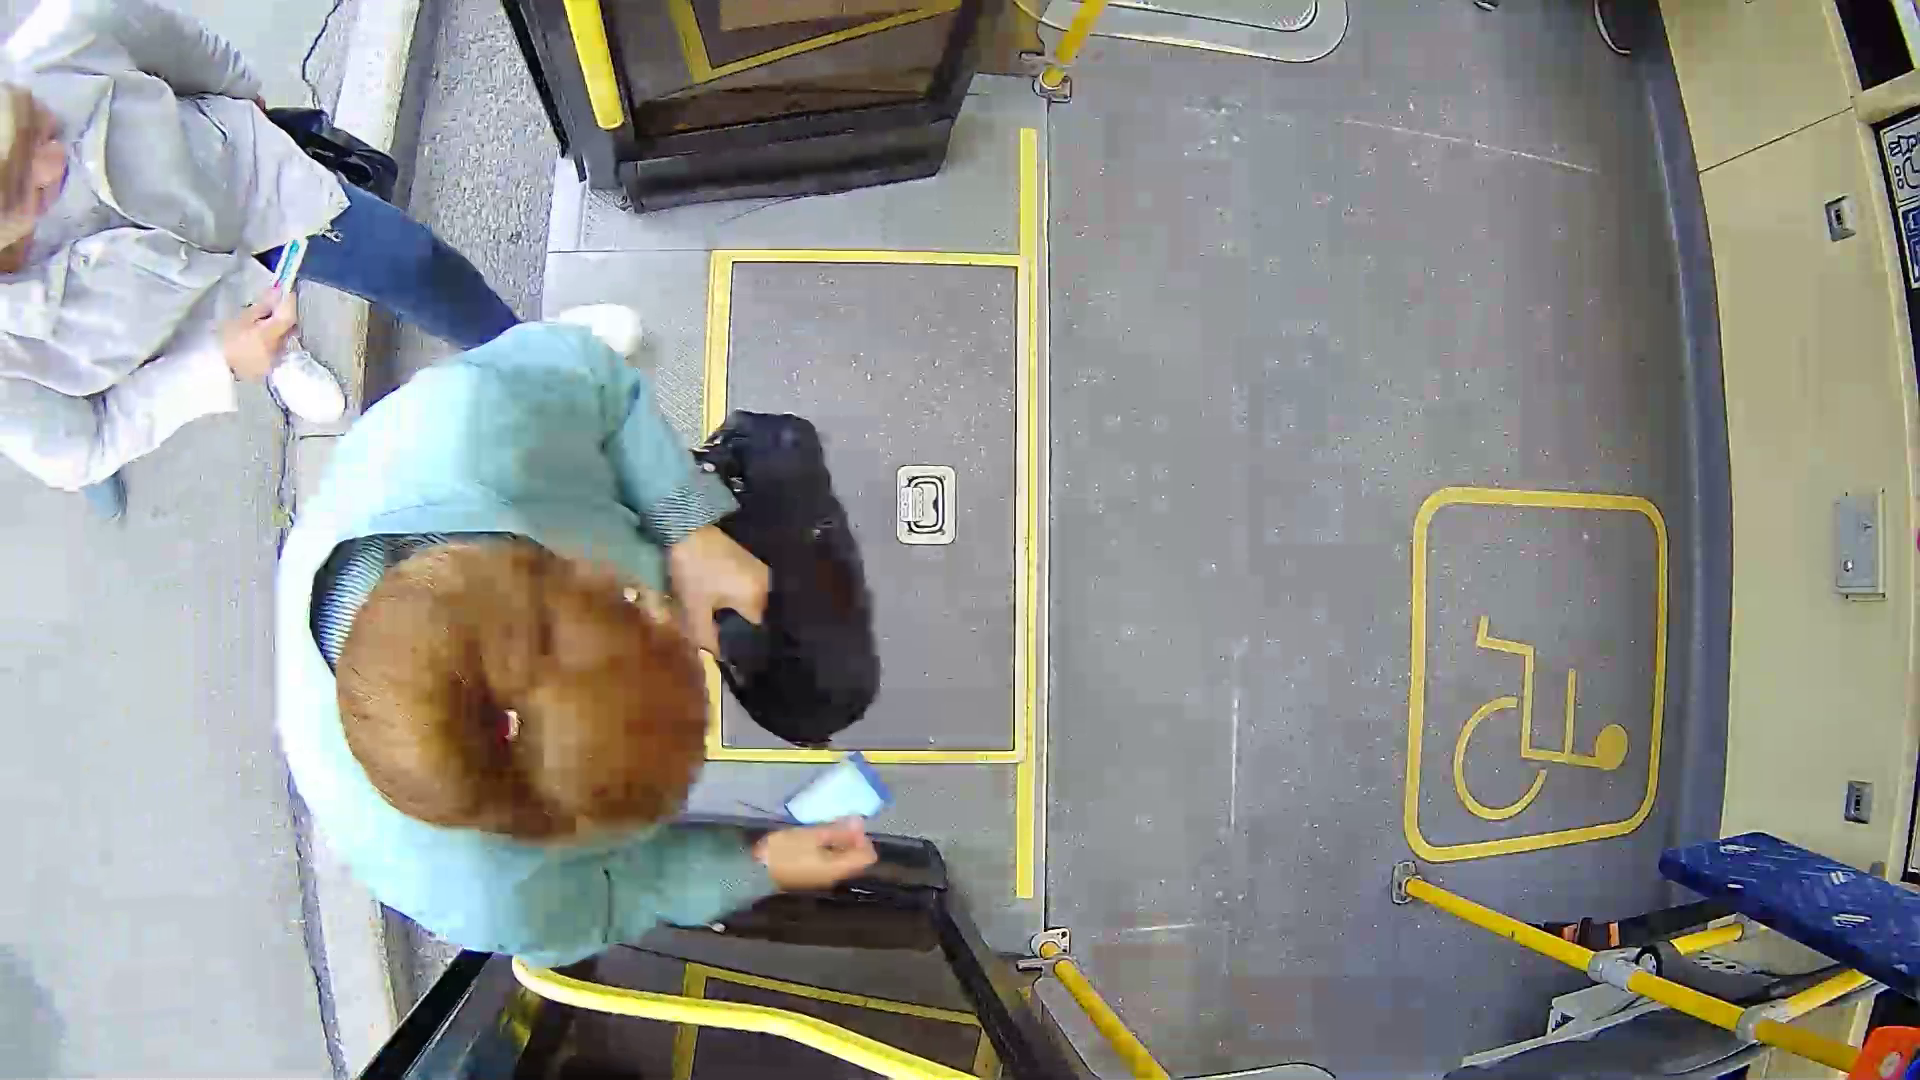person: (224, 305, 978, 965)
